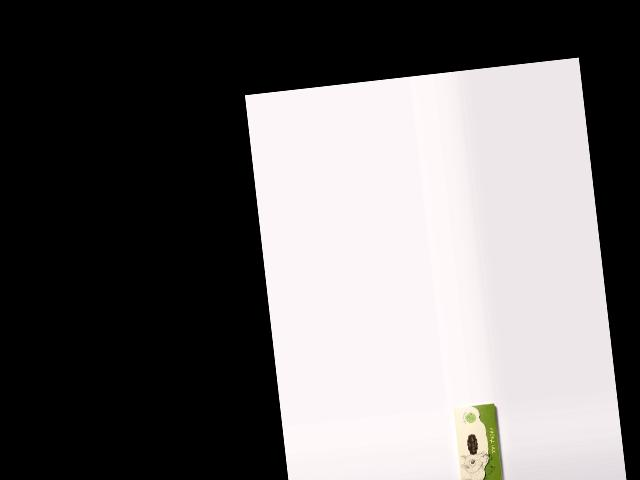chocolate: (451, 402, 504, 480)
